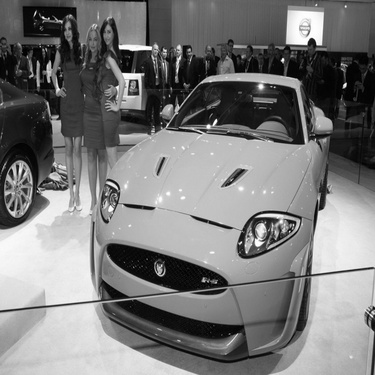car: (91, 76, 339, 348), (1, 46, 60, 218), (89, 25, 152, 112)
